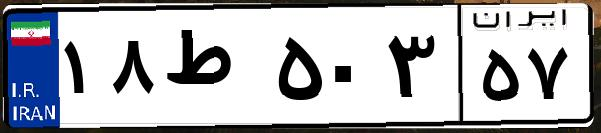0: (330, 28, 385, 110)
1: (57, 26, 110, 100)
3: (385, 28, 445, 110)
5: (270, 28, 330, 110), (475, 38, 525, 113)
7: (525, 38, 570, 115)
8: (110, 28, 158, 98)
ط: (158, 20, 270, 120)
